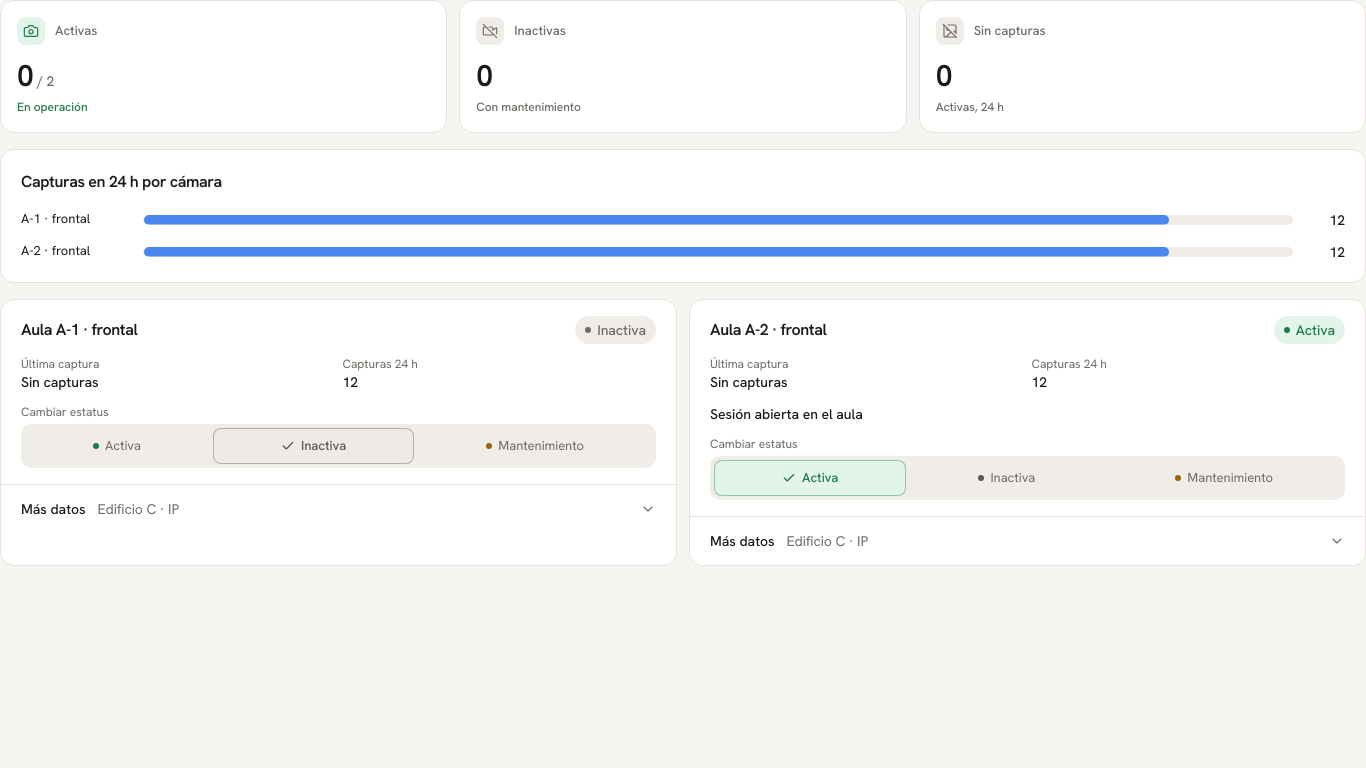
CamarasEstado › activar una cámara no avisa de pase manual; desactivar una con sesión abierta advierte de la sesión en curso
This screenshot has width=1366, height=768.
Click the radio button labelled "Activa" below "Aula A-1 · frontal" at {"x": 117, "y": 446}, box [25,428,209,464]
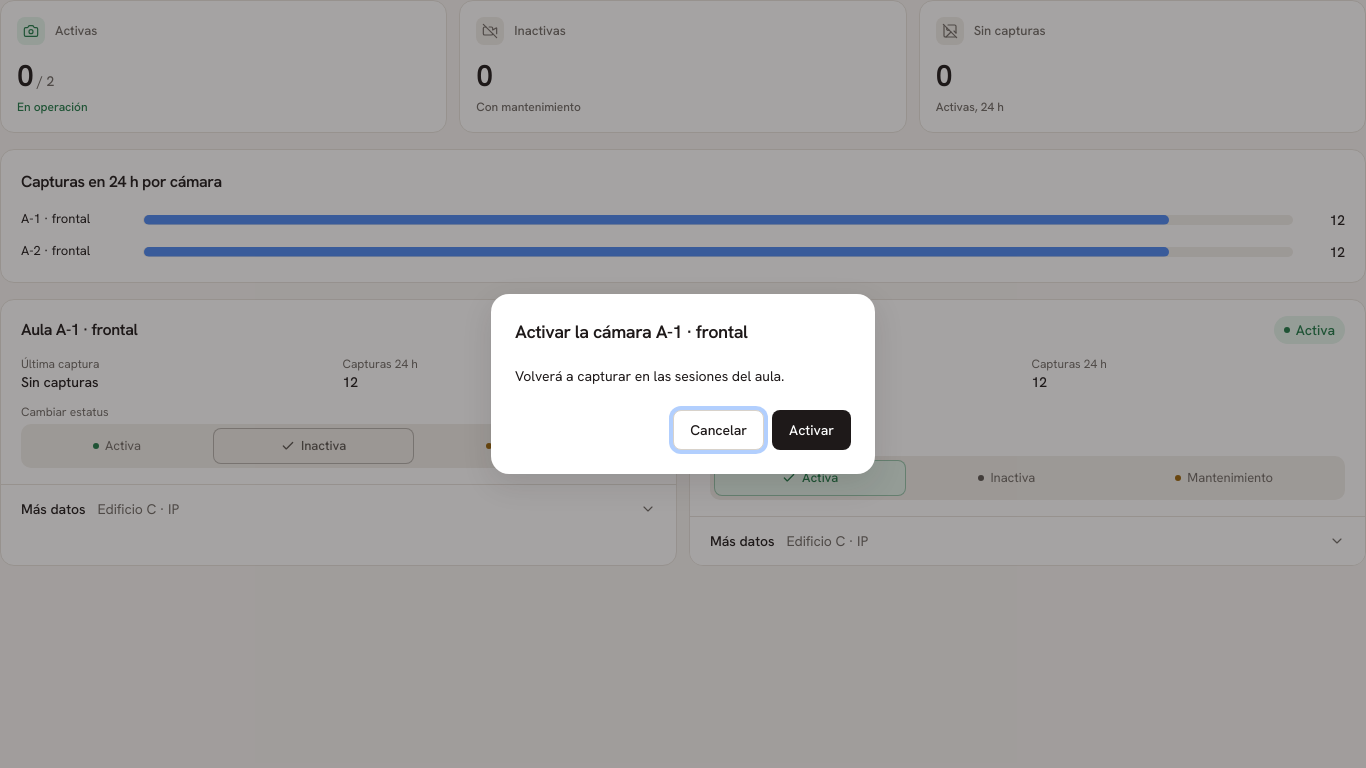
Check: the dialog "Activar la cámara A-1 · frontal" is shown, box [491,294,875,474]
Check: the text "Volverá a capturar en las sesiones del aula." is shown, box [515,367,784,385]
Click the button "Cancelar" at {"x": 719, "y": 430}, box [673,410,764,450]
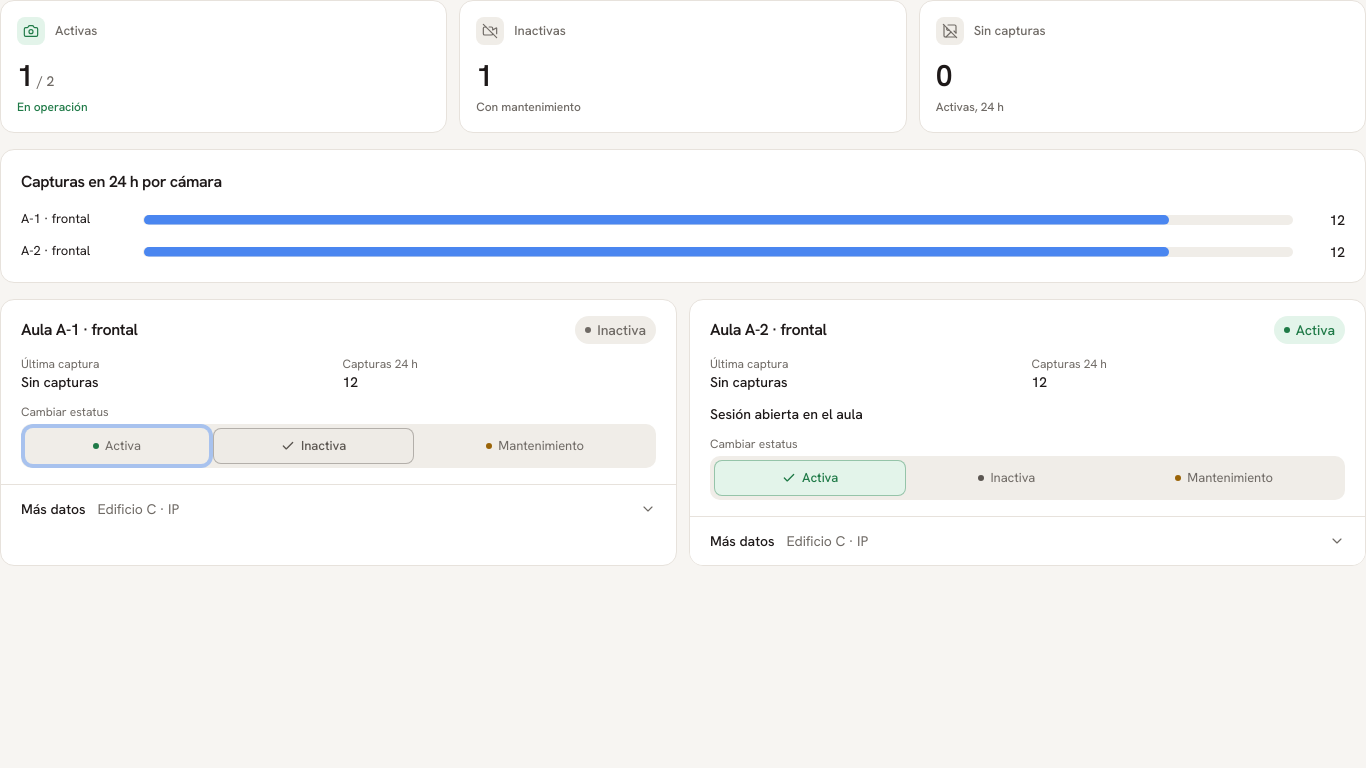
Click the radio button labelled "Inactiva" below "Sesión abierta en el aula" at {"x": 1007, "y": 478}, box [910,460,1103,496]
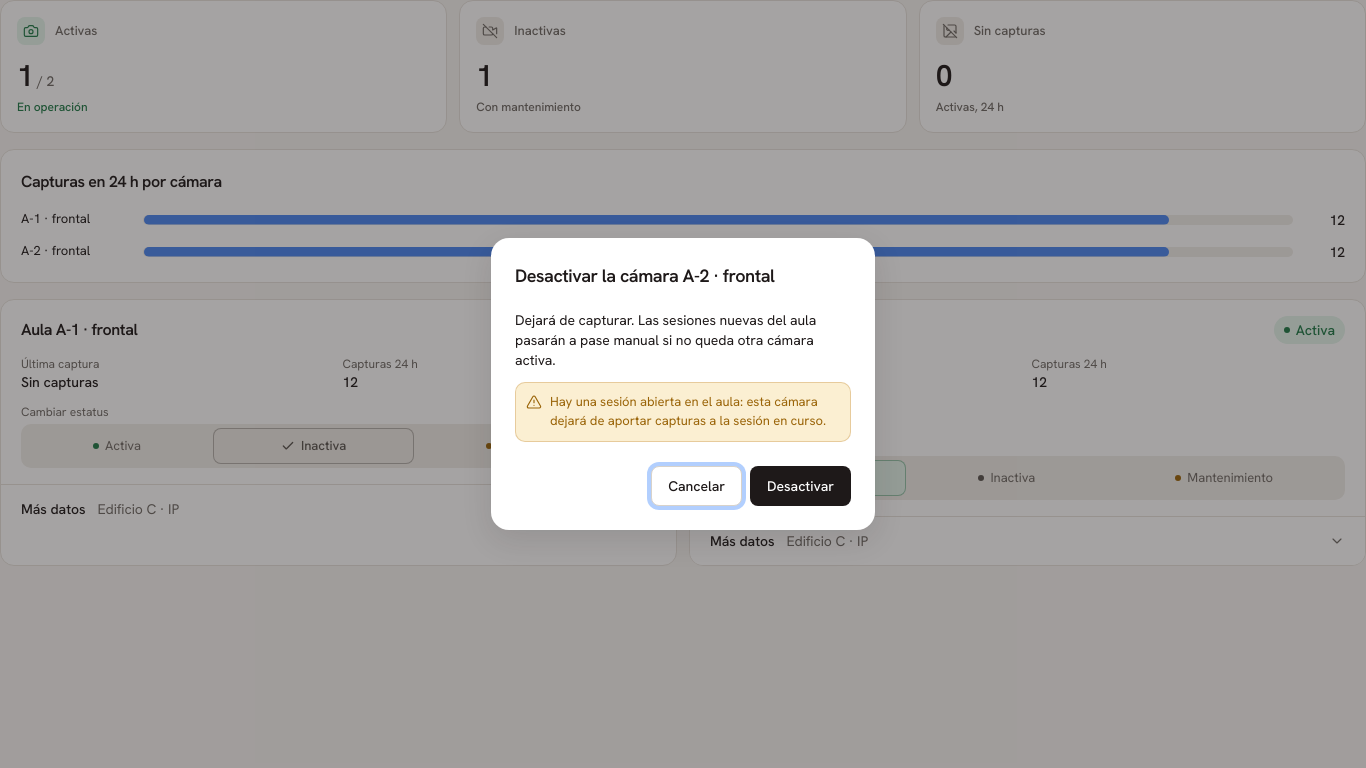
Check: the text "dejará de aportar capturas a la sesión en curso" is shown, box [550,393,826,429]
